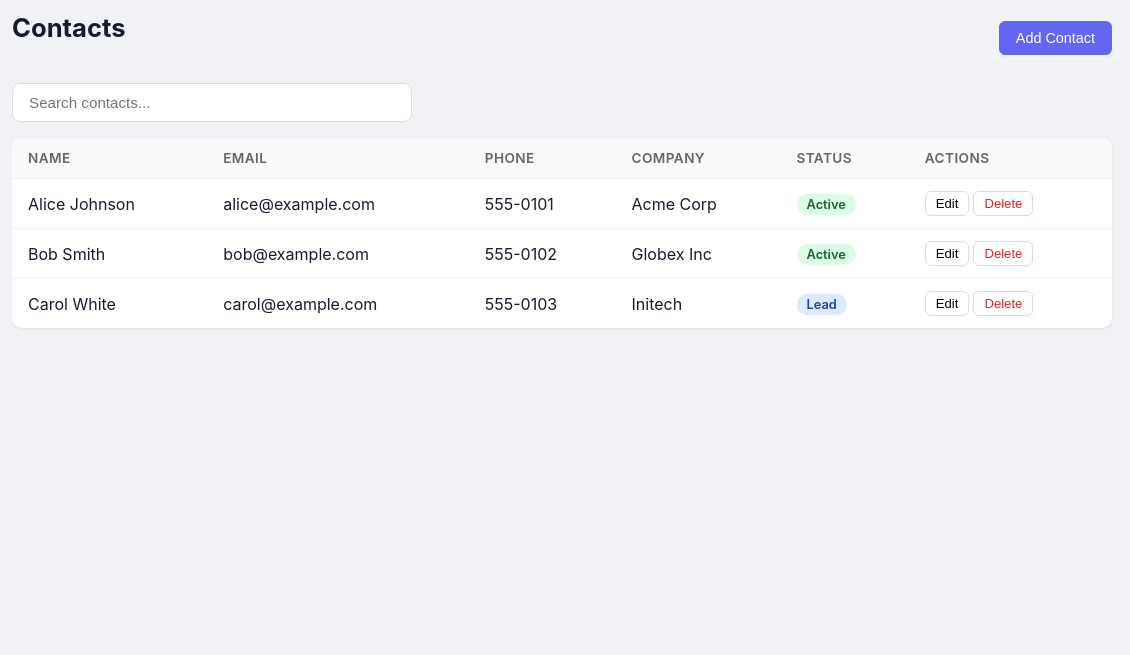
Test case: Contacts › cancels adding a contact
Click the button "Add Contact".
click(1055, 38)  # box [999,20,1112,54]
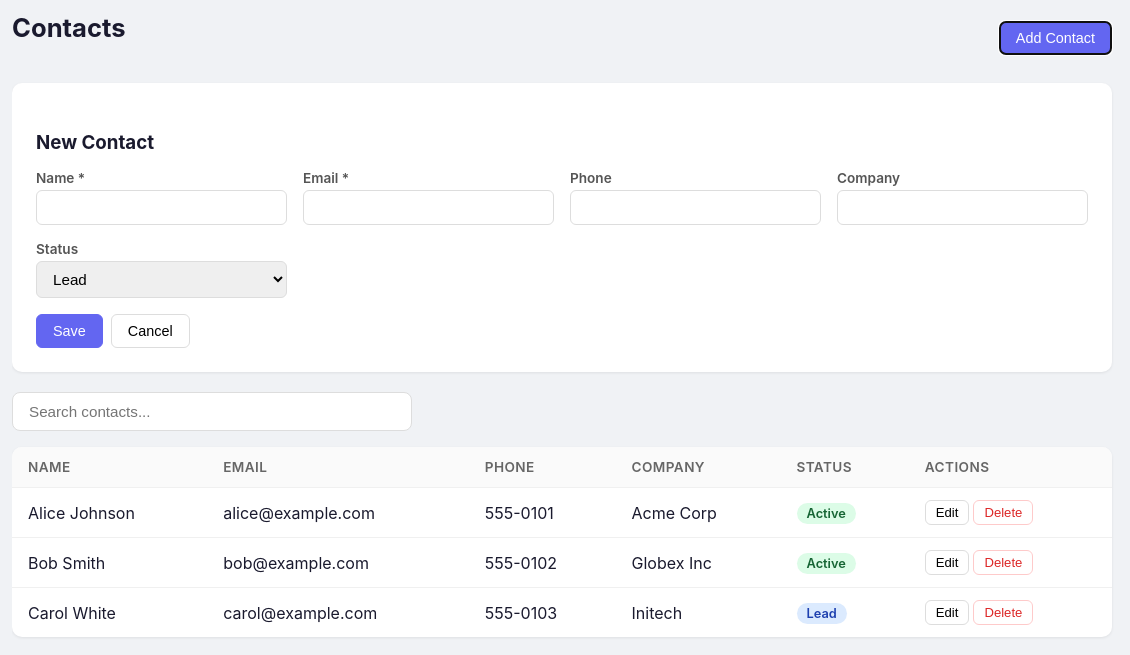
Expected: the heading "New Contact" is shown, [36,131,154,154]
Click the button "Cancel".
click(150, 331)  # box [111,314,190,348]
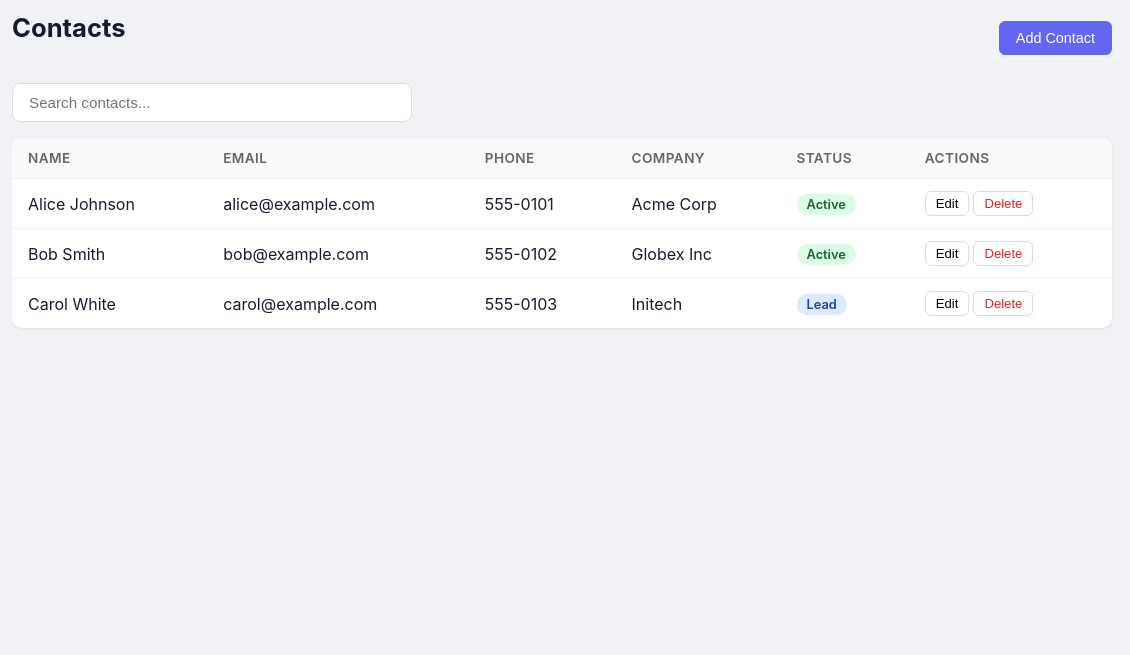
Expected: the heading "New Contact" is gone
